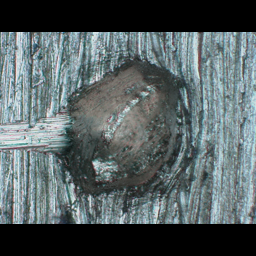d: (41, 49, 198, 207)
